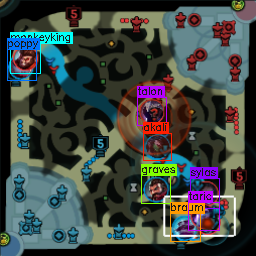akali: (145, 133, 169, 159)
braum: (171, 215, 195, 239)
graves: (144, 178, 168, 202)
monkeyking: (12, 44, 38, 70)
poppy: (9, 54, 32, 79)
sylas: (193, 181, 219, 206)
talon: (139, 100, 162, 124)
taric: (190, 204, 215, 227)
